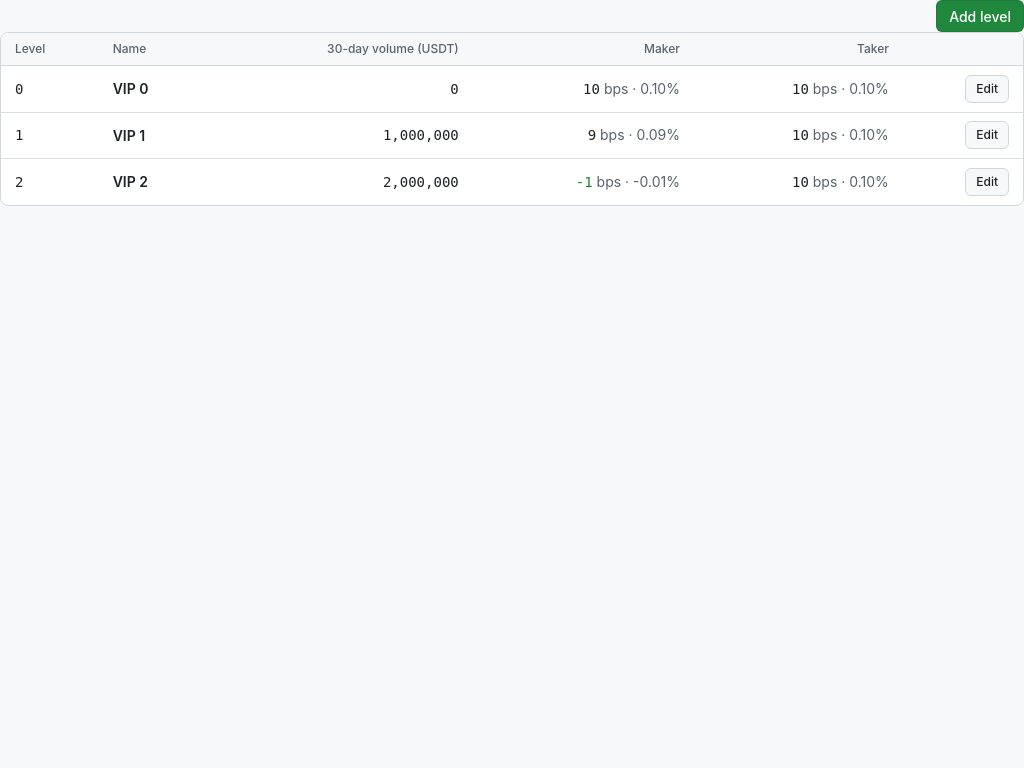
Fees › edits a level with a code; level 0's volume stays at zero
The width and height of the screenshot is (1024, 768).
Click the button "Edit" in the row of "VIP 1": (987, 135) [965,121,1009,149]
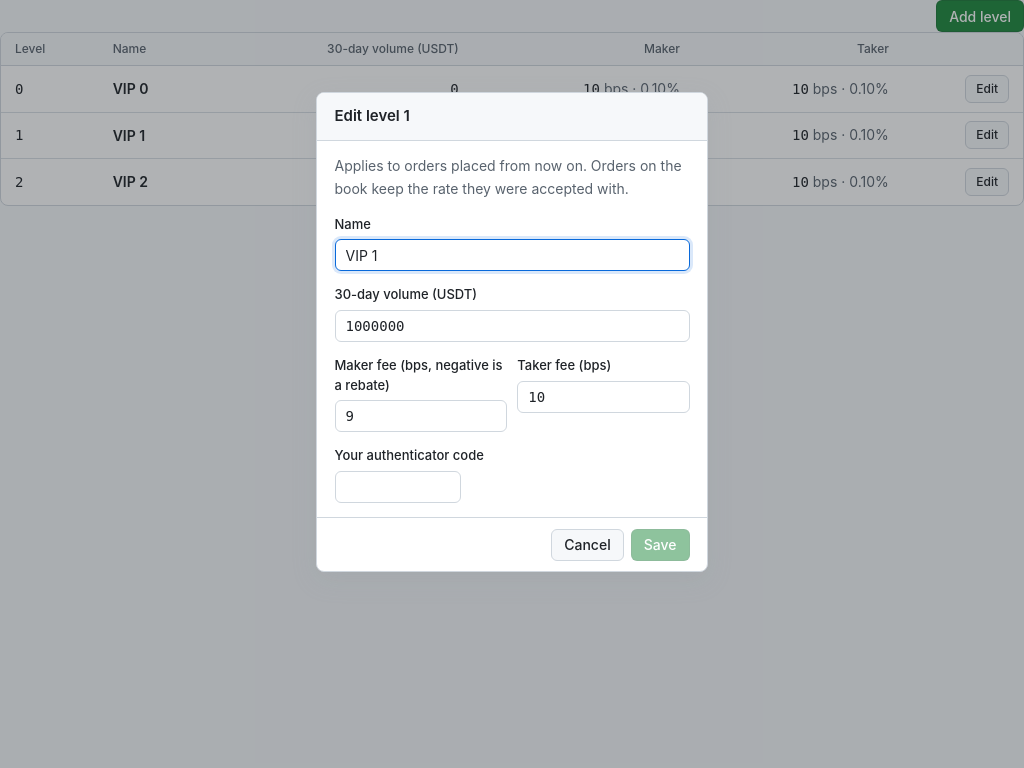
Replace the text in the field labelled "Name" with "Silver": (512, 255) [334,239,690,271]
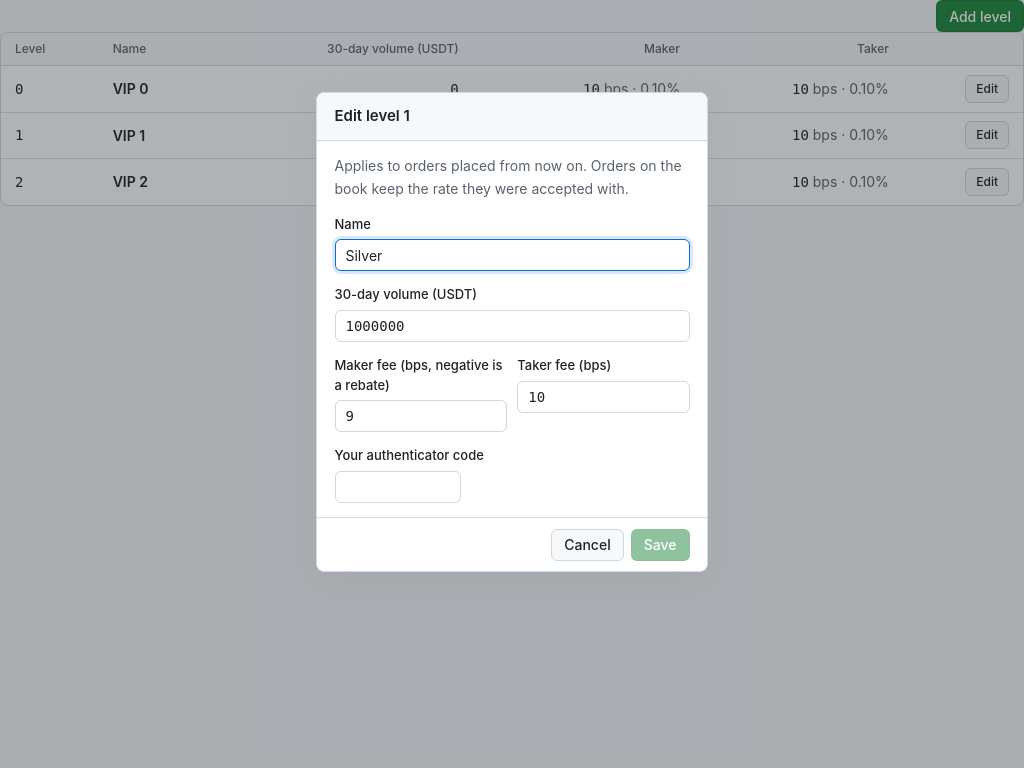
Replace the text in the field labelled "Maker fee" with "-2": (421, 416) [334,400,507,432]
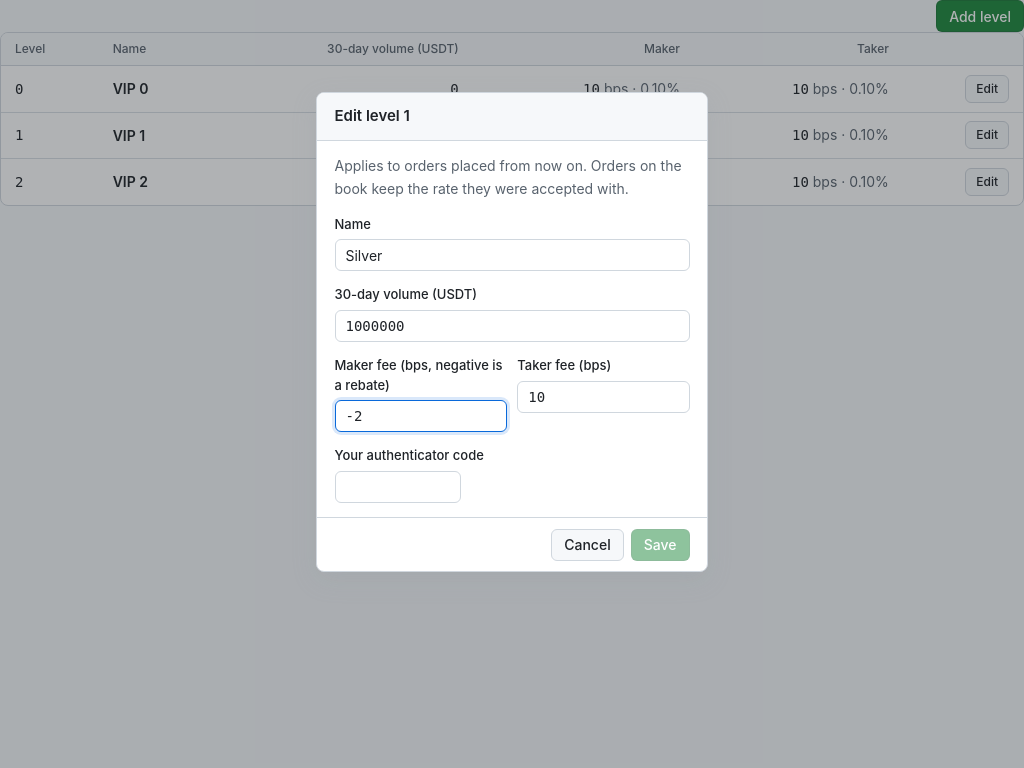
In the field labelled "Your authenticator code": (398, 487) [334,471,460,503], type "123456"
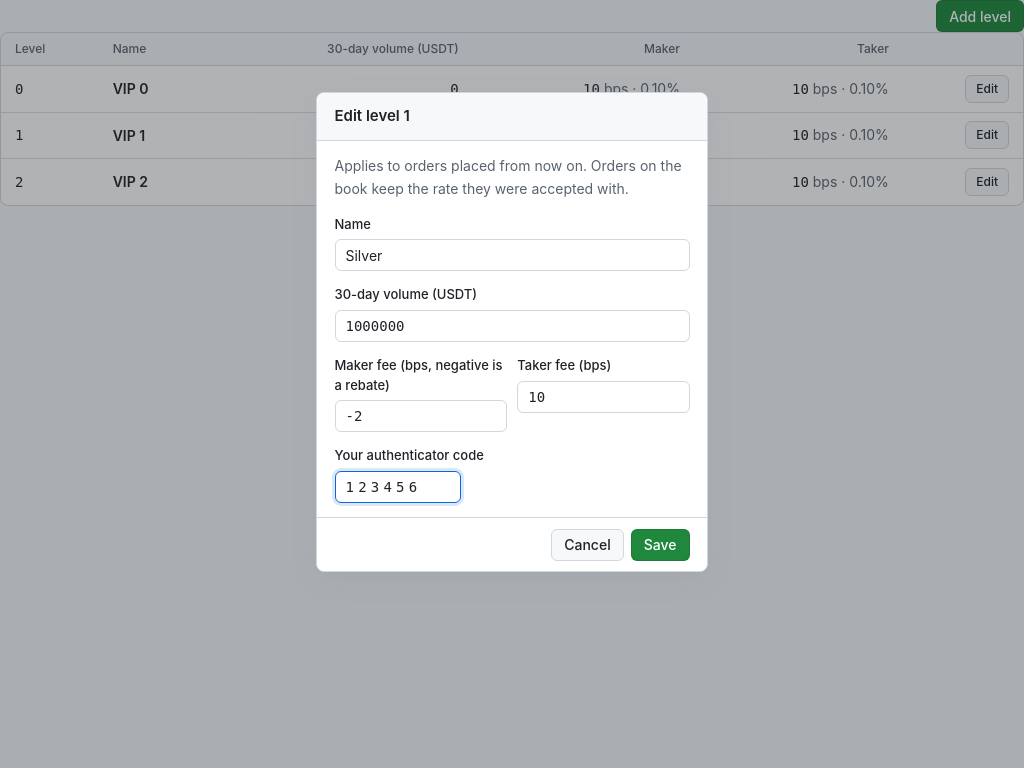
Click the button "Save": (660, 545) [631,529,690,561]
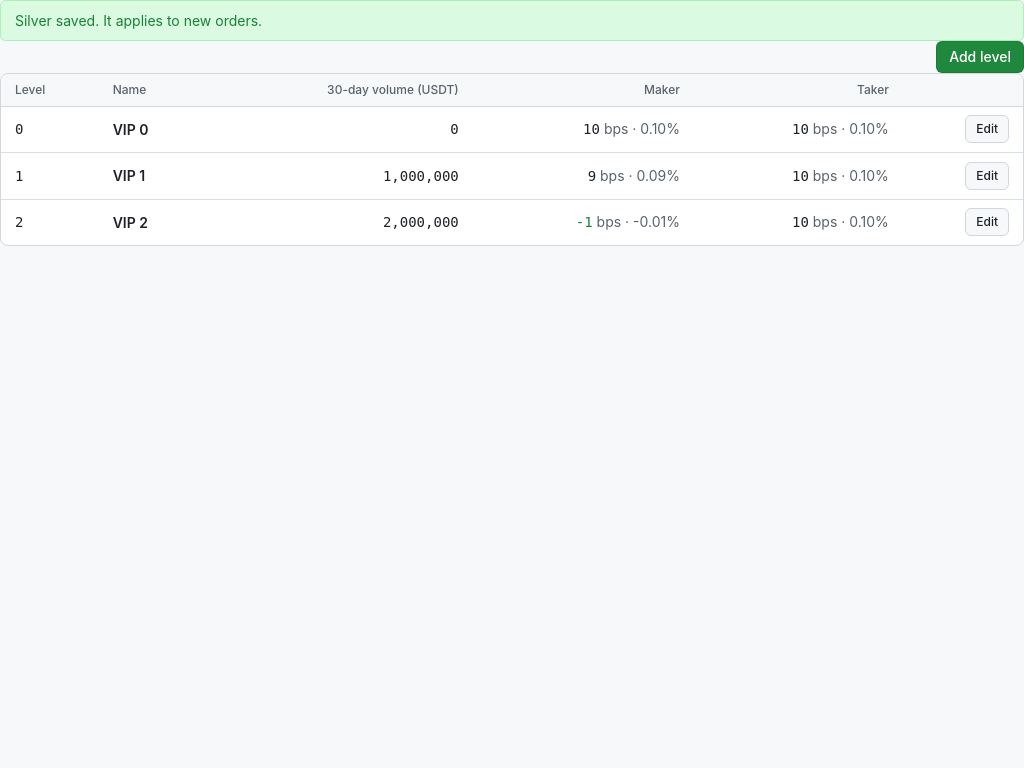
Result: the message shows "Silver saved" at [15,12,262,29]
Click the button "Edit" in the row of "VIP 0": (987, 129) [965,115,1009,143]
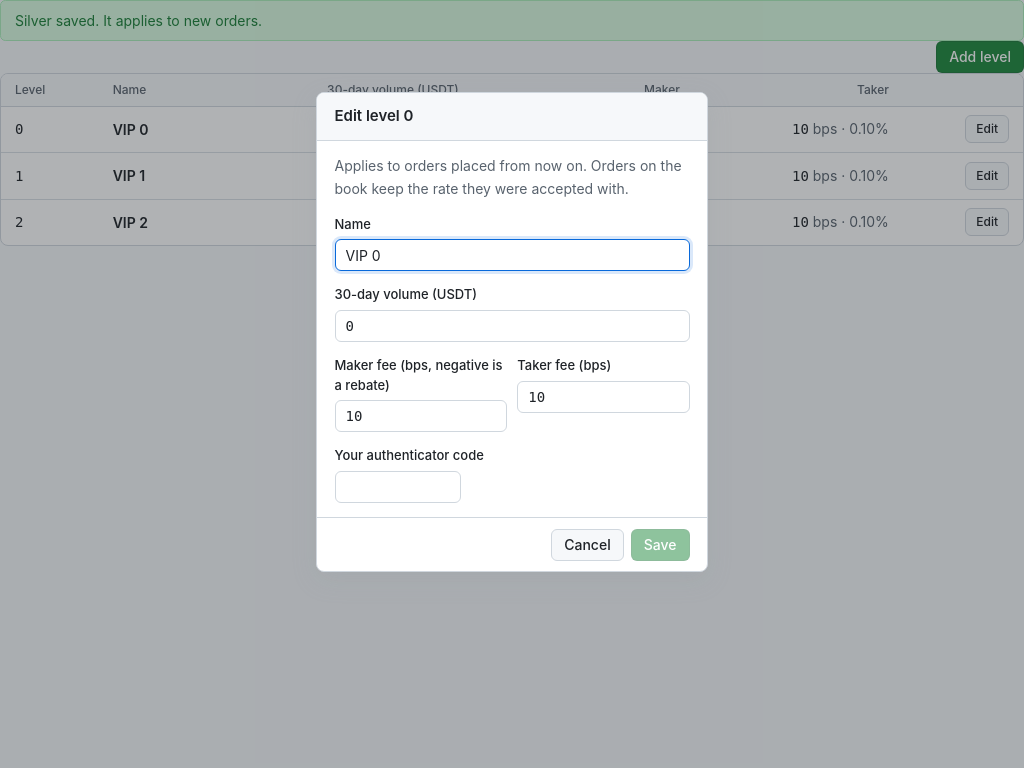
Result: the field labelled "30-day volume" is disabled at [334,310,690,342]
